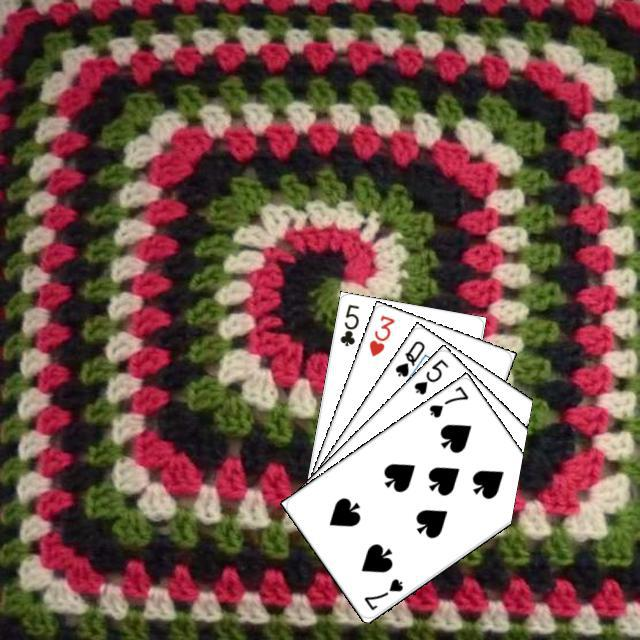3h: (364, 310, 396, 358)
5c: (335, 299, 361, 348)
5s: (409, 354, 450, 396)
7s: (424, 381, 470, 420), (359, 573, 405, 612)
Qs: (390, 336, 427, 379)
